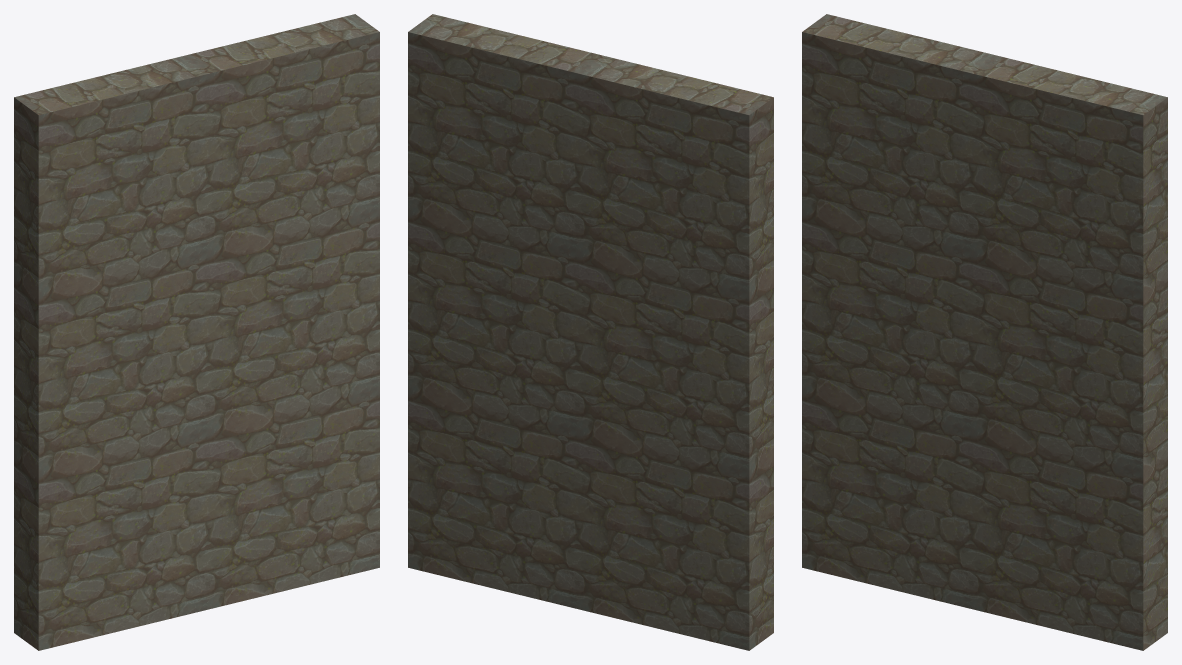
The model's file is SM_FW01_Ruins_Int_Wall_A_4x6_01.fbx.
3 views of the same model, side by side, from view 1: azimuth 30°, elevation 25°; view 2: azimuth 150°, elevation 25°; view 3: azimuth 330°, elevation 25° (orthographic).
Visible parts, largest first — view 1: SM_FW01_Ruins_Int_Wall_A_4x6_01; view 2: SM_FW01_Ruins_Int_Wall_A_4x6_01; view 3: SM_FW01_Ruins_Int_Wall_A_4x6_01.
Boxes of the visible parts, <box> form: SM_FW01_Ruins_Int_Wall_A_4x6_01: <box>14,14,379,650</box>; SM_FW01_Ruins_Int_Wall_A_4x6_01: <box>408,14,773,650</box>; SM_FW01_Ruins_Int_Wall_A_4x6_01: <box>802,14,1167,650</box>.
Bounding box in the file's own units: 4 × 6 × 0.5004.
